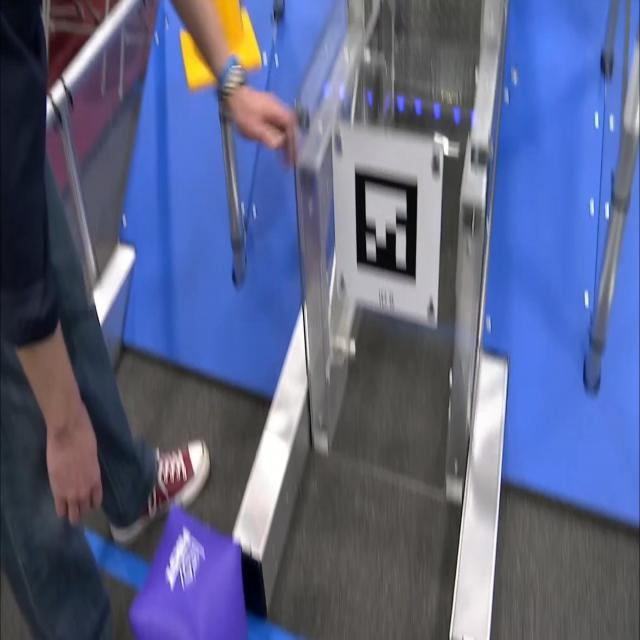frc_cone: (173, 0, 259, 86)
frc_cube: (128, 505, 249, 640)
